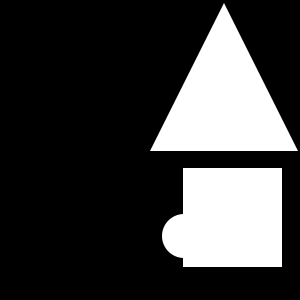circle: (183, 168, 282, 267)
rectangle: (162, 214, 206, 258)
triangle: (150, 3, 298, 151)
